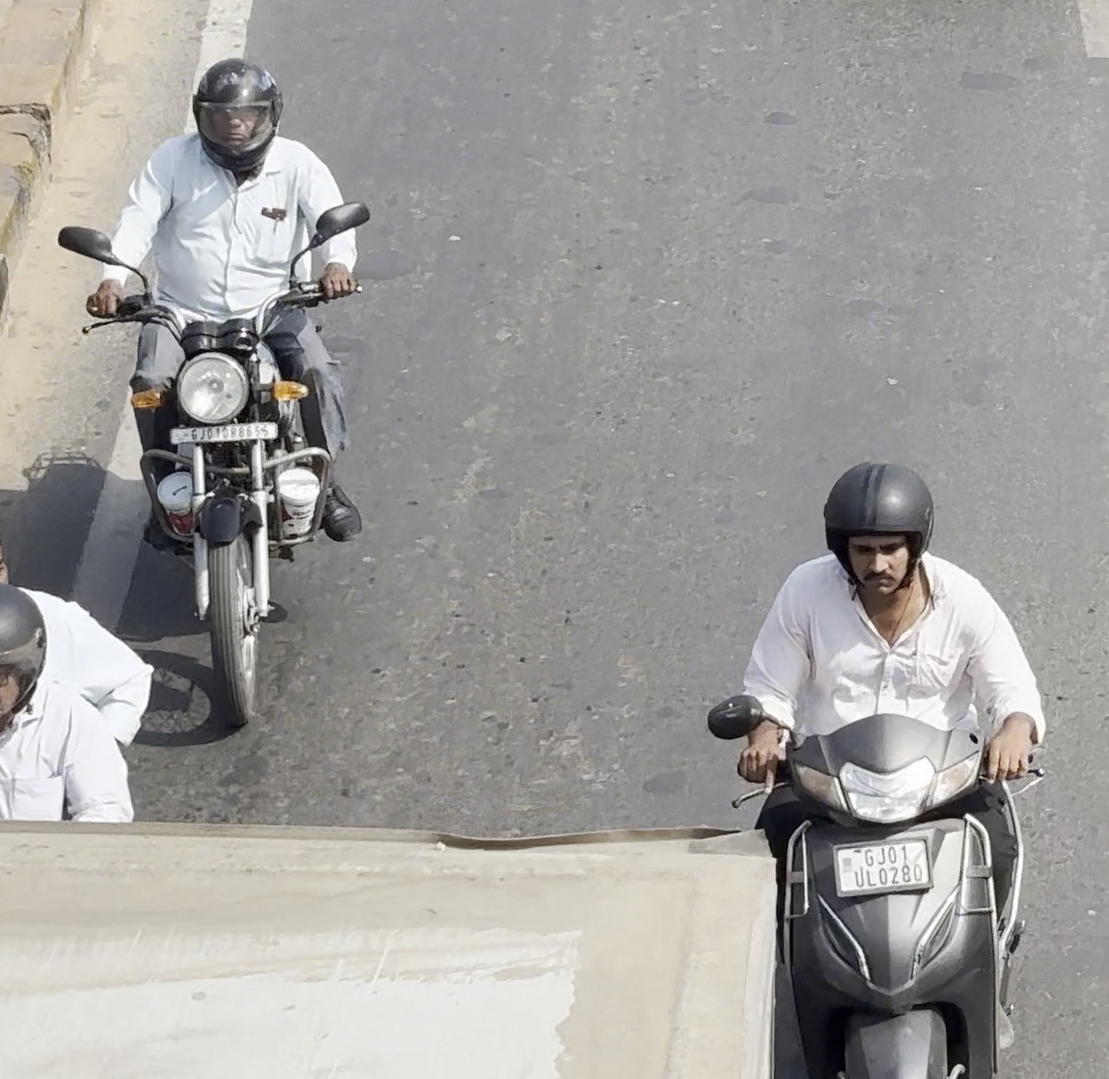BikeWithRider: (48, 48, 383, 741), (695, 447, 1062, 1079)
Helmet: (808, 448, 949, 605), (173, 48, 300, 179)
